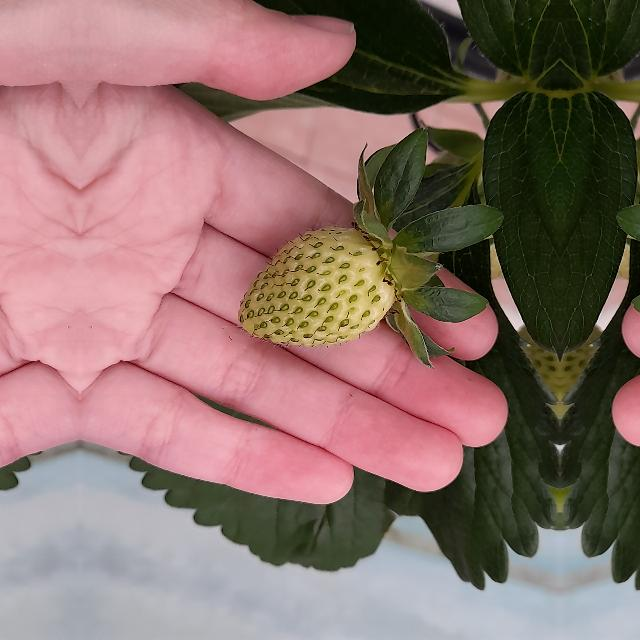Health_25: (237, 226, 395, 346)
